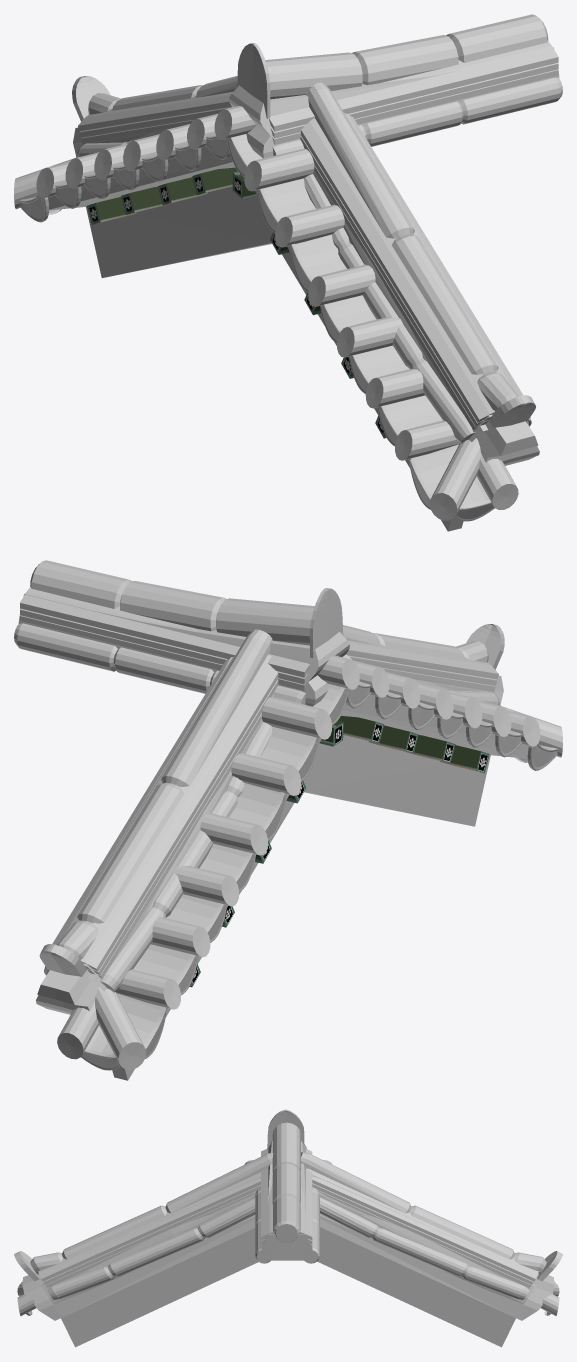
Rendered from SM_R_RoofOuter_7.fbx.
3 renders of one model, top to bottom at view 1: azimuth 30°, elevation 25°; view 2: azimuth 150°, elevation 25°; view 3: azimuth 270°, elevation 25°, orthographic. The views are drawn at different scales.
Visible parts, largest first — view 1: SM_R_RoofOuter_7_LOD0; view 2: SM_R_RoofOuter_7_LOD0; view 3: SM_R_RoofOuter_7_LOD0.
Boxes of the visible parts, left/top/right/bottom form: SM_R_RoofOuter_7_LOD0: left=14, top=14, right=562, bottom=531; SM_R_RoofOuter_7_LOD0: left=14, top=560, right=562, bottom=1080; SM_R_RoofOuter_7_LOD0: left=14, top=1109, right=562, bottom=1347.
Size of the model in its own units: 276 by 667 by 304.
